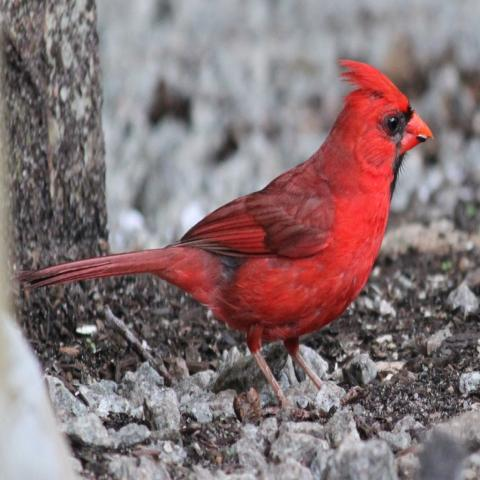bird: (12, 55, 435, 416)
